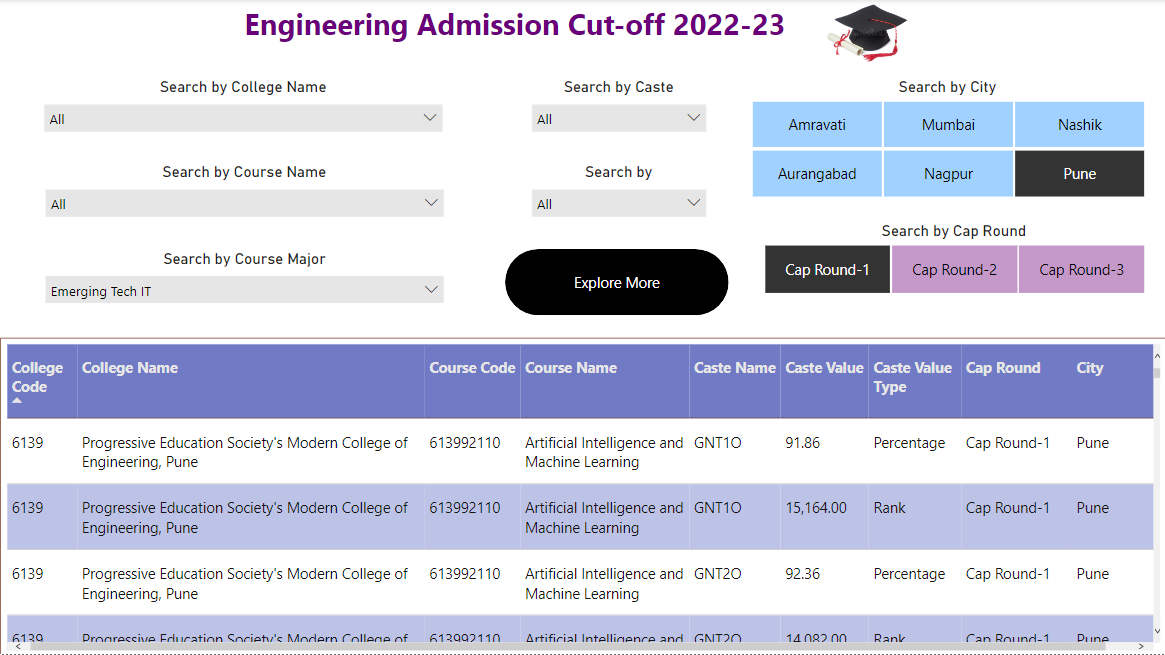

This screenshot's page, from the dashboard's own definition file:
{"tool":"powerbi","page":{"name":"Details","canvas":[1280,720],"ordinal":1},"visuals":[{"type":"tableEx","title":"All Available Courses","fields":{"Values":["mht-cet-2022-all-rounds-cutoff-mh.College Code","mht-cet-2022-all-rounds-cutoff-mh.College Name","mht-cet-2022-all-rounds-cutoff-mh.Course Code","mht-cet-2022-all-rounds-cutoff-mh.Course Name","mht-cet-2022-all-rounds-cutoff-mh.Caste Name","mht-cet-2022-all-rounds-cutoff-mh.Caste Value","mht-cet-2022-all-rounds-cutoff-mh.Caste Value Type","mht-cet-2022-all-rounds-cutoff-mh.Cap Round","mht-cet-2022-all-rounds-cutoff-mh.City"]},"box":[0,371.9,1280.3,348.5],"z":0},{"type":"textbox","box":[245.6,0,621.6,60.4],"z":1000},{"type":"image","box":[896.8,0,107.3,73.6],"z":2000},{"type":"slicer","title":"Search by College Name","fields":{"Values":["mht-cet-2022-all-rounds-cutoff-mh.College Name"]},"box":[38.4,86.4,456.9,85.1],"z":3000},{"type":"slicer","title":"Search by Course Major","fields":{"Values":["mht-cet-2022-all-rounds-cutoff-mh.Course Major"]},"box":[39.8,274.4,456.9,85.1],"z":4000},{"type":"slicer","title":"Search by Course Name","fields":{"Values":["mht-cet-2022-all-rounds-cutoff-mh.Course Name"]},"box":[39.8,179.8,456.9,85.1],"z":5000},{"type":"slicer","title":"Search by City","fields":{"Values":["mht-cet-2022-all-rounds-cutoff-mh.City"]},"box":[800,86.4,480.3,137.2],"z":6000},{"type":"slicer","title":"Search by Cap Round","fields":{"Values":["mht-cet-2022-all-rounds-cutoff-mh.Cap Round"]},"box":[813.7,244.3,466.6,85.1],"z":7000},{"type":"slicer","title":"Search by Caste","fields":{"Values":["mht-cet-2022-all-rounds-cutoff-mh.Caste Name"]},"box":[573.6,86.4,211.3,85.1],"z":8000},{"type":"slicer","title":"Search by","fields":{"Values":["mht-cet-2022-all-rounds-cutoff-mh.Caste Value Type"]},"box":[573.6,179.8,211.3,85.1],"z":9000},{"type":"actionButton","box":[554.4,274.4,245.6,72.7],"z":10000}]}

Visuals, with their boxes in screenshot pixels (x1, y1, x2, y2), scaled from the page's 1280x720 canvas onto the 1165x655 screenshot:
"All Available Courses" tableEx: bbox(0, 338, 1164, 654)
textbox: bbox(224, 0, 789, 55)
image: bbox(816, 0, 914, 67)
"Search by College Name" slicer: bbox(35, 79, 451, 156)
"Search by Course Major" slicer: bbox(36, 250, 452, 327)
"Search by Course Name" slicer: bbox(36, 164, 452, 241)
"Search by City" slicer: bbox(728, 79, 1164, 203)
"Search by Cap Round" slicer: bbox(741, 222, 1164, 300)
"Search by Caste" slicer: bbox(522, 79, 714, 156)
"Search by" slicer: bbox(522, 164, 714, 241)
actionButton: bbox(505, 250, 728, 316)
